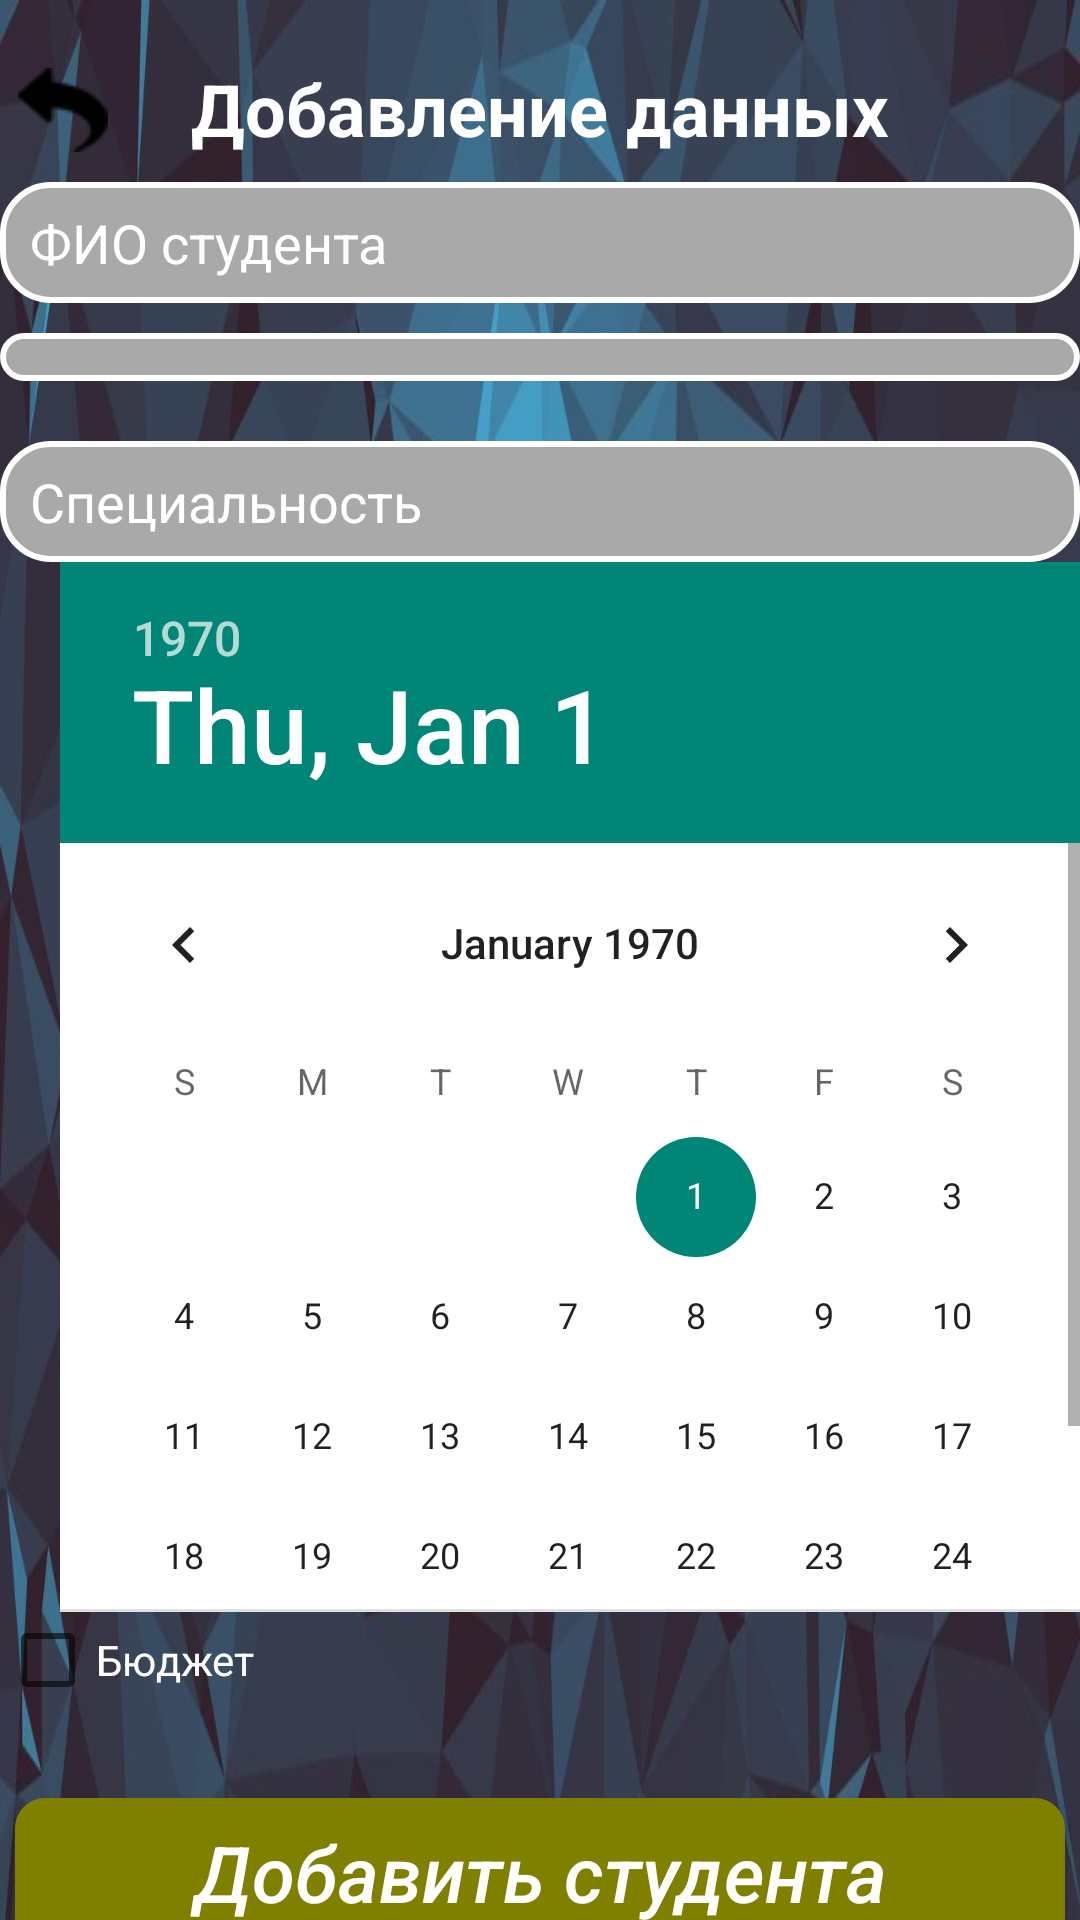

Point at icon controls on the screen. Image size 1080w x 1920h, points as [x,y].
back: [69,110]
